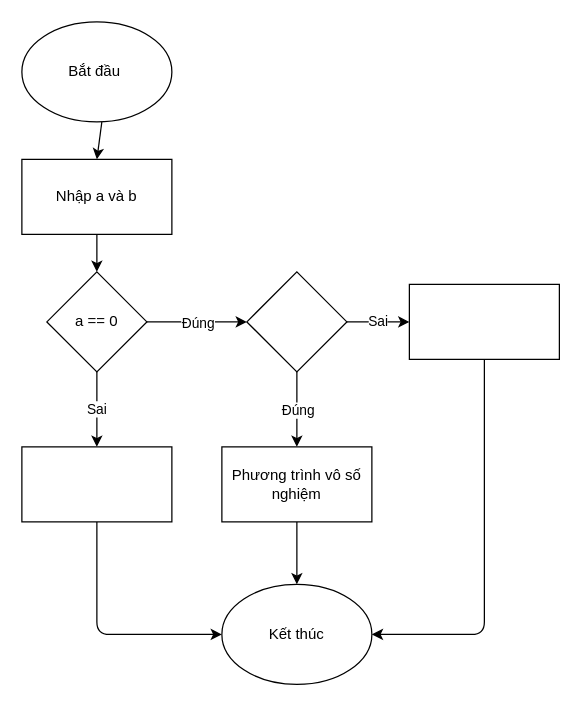
Some shapes in this 581 by 706 pixel diagram are drawn without their labels. The shapes that lost their labels are listed below. From the top down, each one's centre as x and y in pixels, then its label:
At [296,321]: "b == 0".
At [483,321]: "Phương trình vô nghiệm".
At [96,484]: "Tính x=-b/a".
